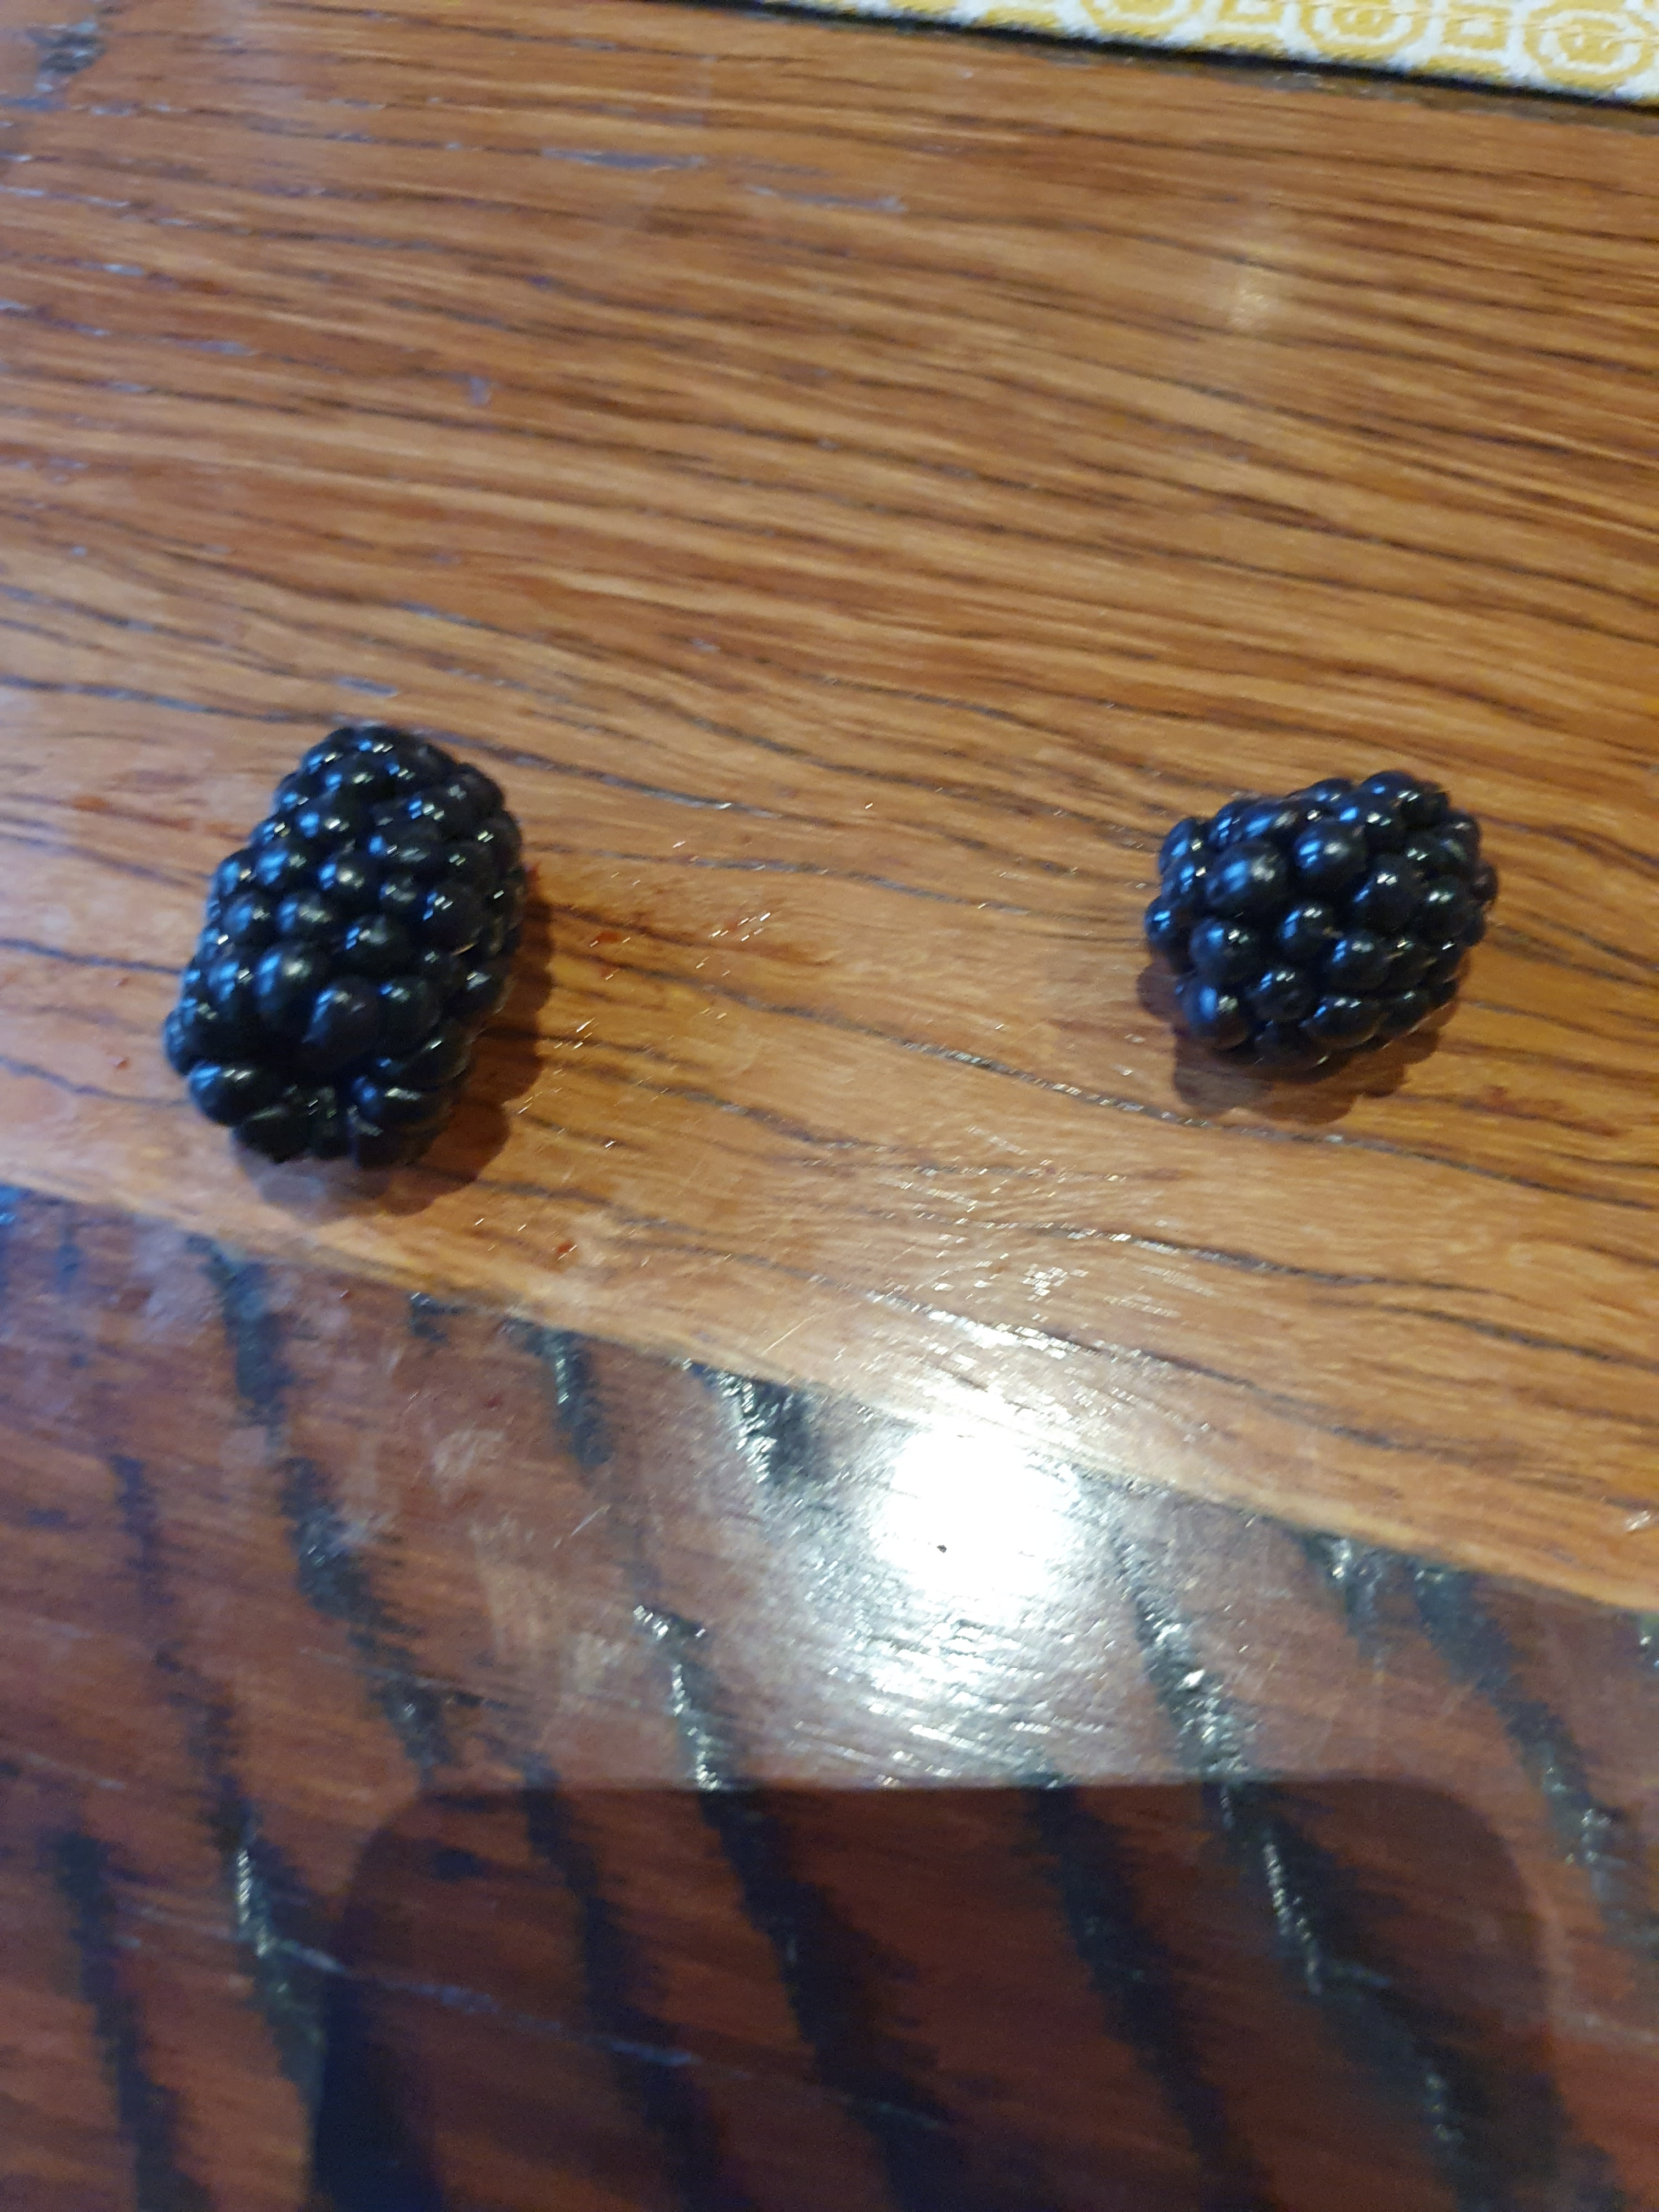blackberry: (143, 639, 561, 1226), (1119, 719, 1516, 1097)
